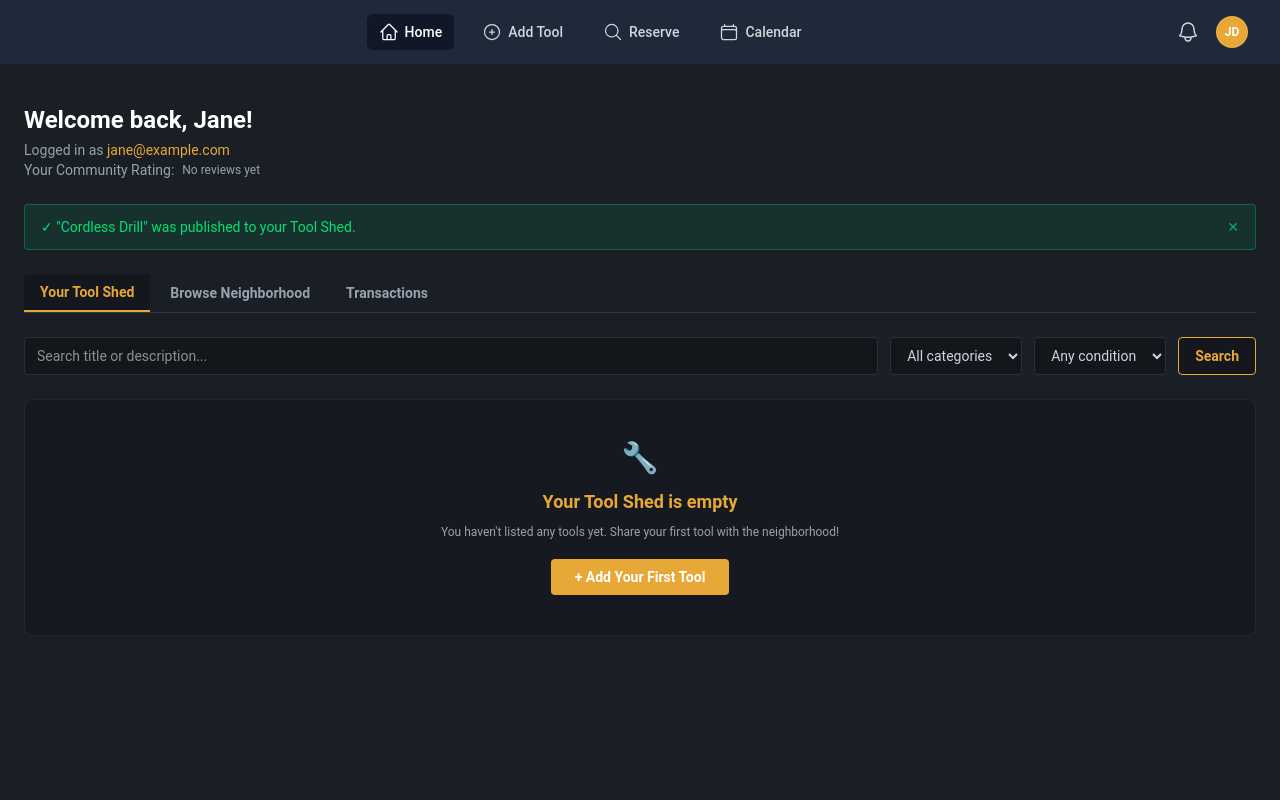
Dashboard › hides the success banner when the dismiss button is clicked
expect the text "✓ \"Cordless Drill\" was published to your Tool Shed." is shown: met, box left=41, top=217, right=356, bottom=237
What coordinates should you click on to do the following:
click the button named "dismiss"
I would click on:
 (1233, 227)
Its box is left=1227, top=217, right=1239, bottom=237.
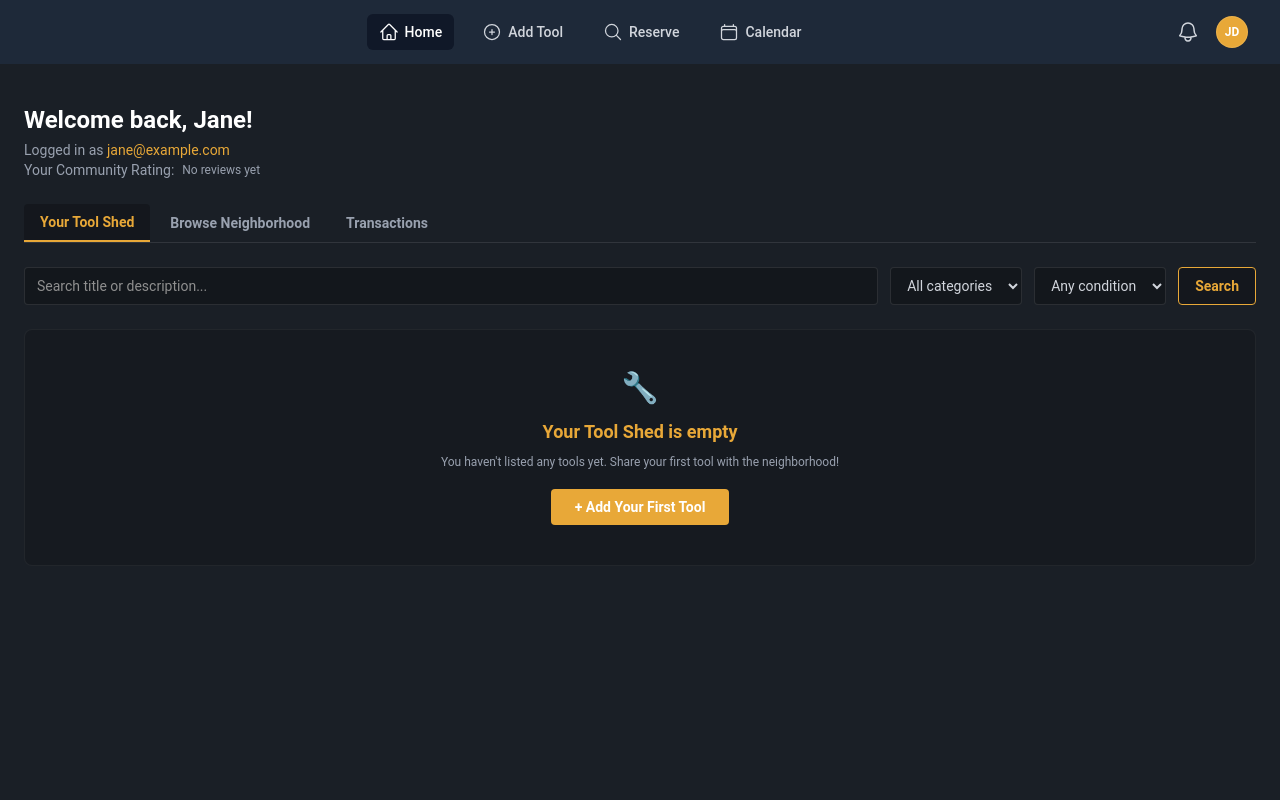
expect the text "\"Cordless Drill\" was published" is gone: met
